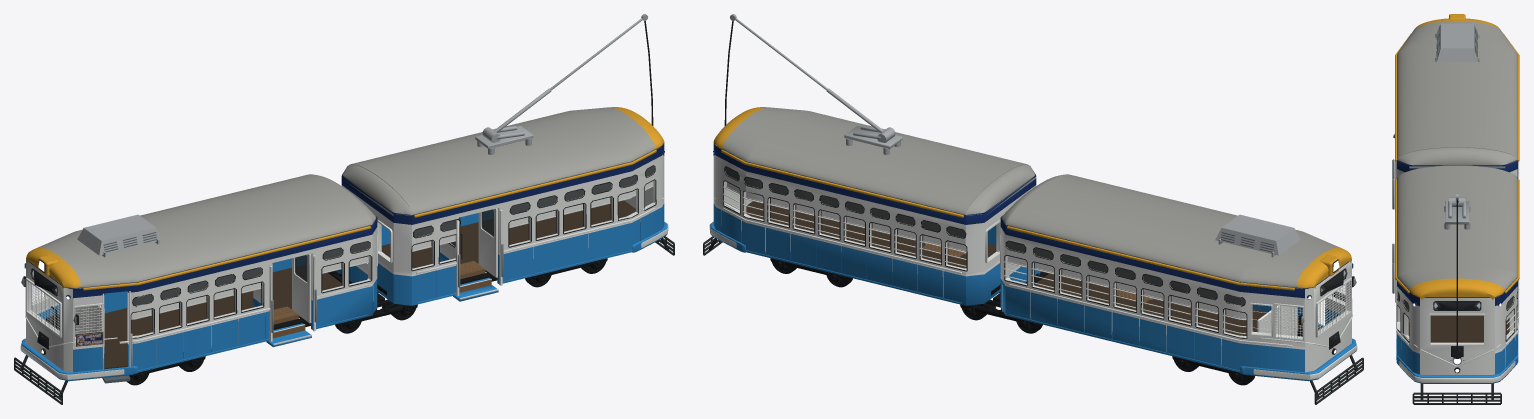
Rendered from TRAM_V3.glb.
3 renders of one model, left to right at view 1: azimuth 30°, elevation 25°; view 2: azimuth 150°, elevation 25°; view 3: azimuth 270°, elevation 25°, orthographic. The views are drawn at different scales.
Parts seen in each view (by area): view 1: TramV3, TramV3_textured; view 2: TramV3, TramV3_textured; view 3: TramV3_textured, TramV3.
Boxes of the visible parts, x1,y1,x2,y2 form: TramV3: (14, 14, 674, 404); TramV3_textured: (37, 107, 659, 346); TramV3: (703, 14, 1363, 404); TramV3_textured: (718, 107, 1340, 288); TramV3_textured: (1397, 21, 1517, 293); TramV3: (1392, 14, 1519, 404).
Bounding box in the file's own units: 15.87 × 5.71 × 3.05.
Materials: 26 (2 with a texture image).
